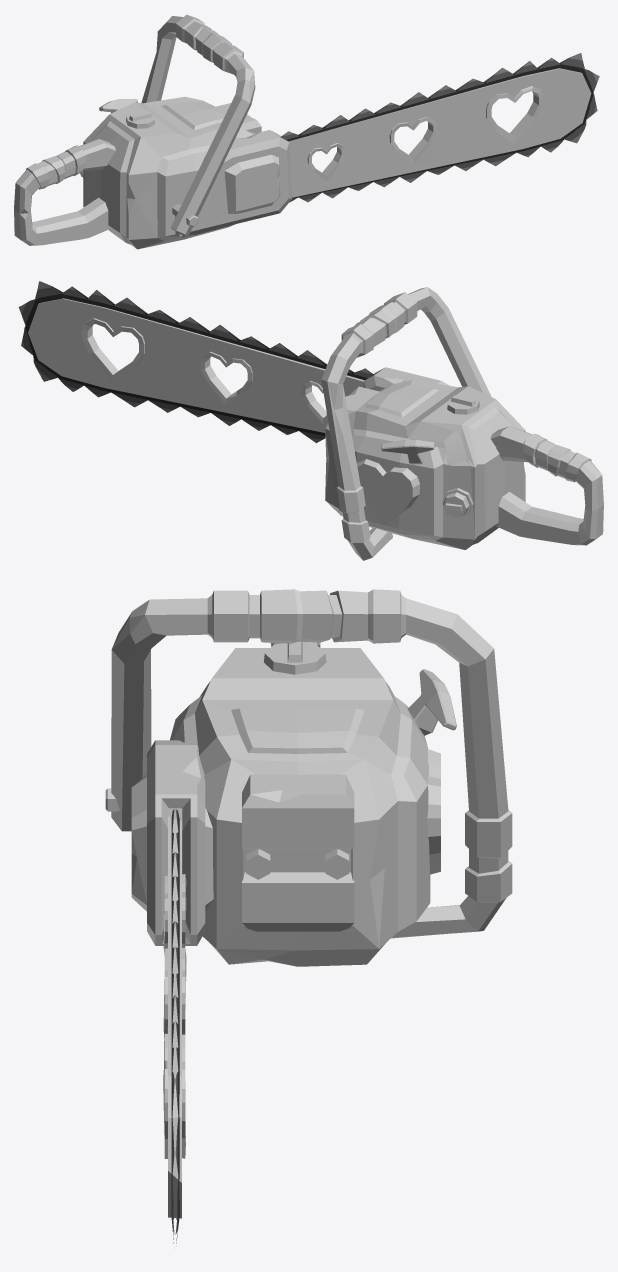
File: SM_Wep_Bubblegum_Killsaw_01.fbx
The picture shows the model from 3 angles, top to bottom: view 1: azimuth 30°, elevation 25°; view 2: azimuth 150°, elevation 25°; view 3: azimuth 270°, elevation 25°; orthographic projection. The views are drawn at different scales.
Parts seen in each view (by area): view 1: SM_Wep_Bubblegum_Killsaw_01; view 2: SM_Wep_Bubblegum_Killsaw_01; view 3: SM_Wep_Bubblegum_Killsaw_01.
Part boxes in pixels (x1=…): SM_Wep_Bubblegum_Killsaw_01: x1=14, y1=14, x2=599, y2=249; SM_Wep_Bubblegum_Killsaw_01: x1=18, y1=281, x2=603, y2=560; SM_Wep_Bubblegum_Killsaw_01: x1=105, y1=589, x2=512, y2=1243.
Size of the model in its own units: 114 by 36.6 by 36.11.
